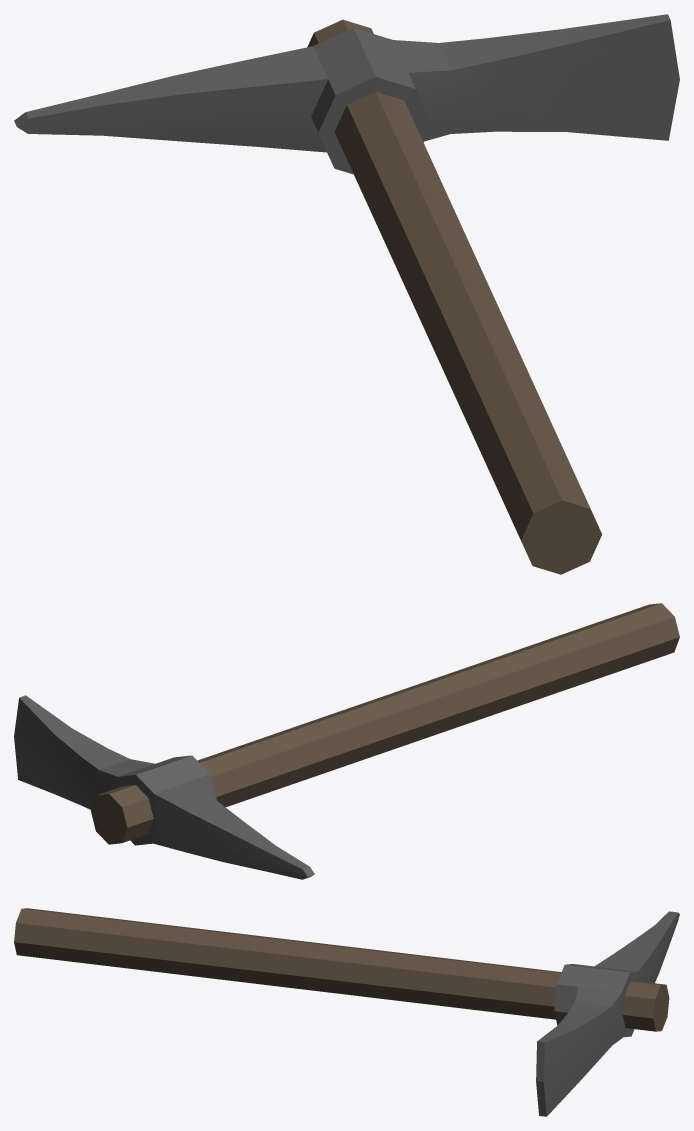
File: tutorial_test_pickaxe.fbx
3 renders of one model, top to bottom at view 1: azimuth 30°, elevation 25°; view 2: azimuth 150°, elevation 25°; view 3: azimuth 270°, elevation 25°, orthographic. The views are drawn at different scales.
Parts seen in each view (by area): view 1: pickaxe; view 2: pickaxe; view 3: pickaxe.
Boxes of the visible parts, left/top/right/bottom form: pickaxe: left=14, top=14, right=679, bottom=574; pickaxe: left=14, top=603, right=679, bottom=879; pickaxe: left=14, top=908, right=679, bottom=1116.
Size of the model in its own units: 24.12 by 4.88 by 39.49.
